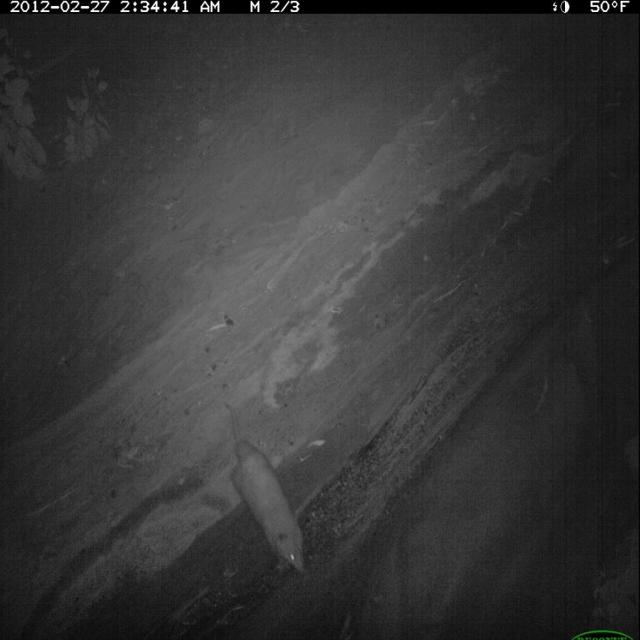opossum: (223, 399, 310, 582)
